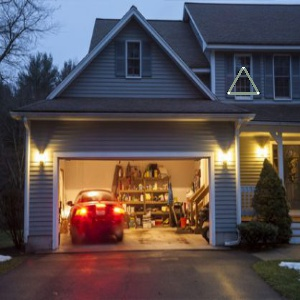triangle: (224, 64, 264, 100)
